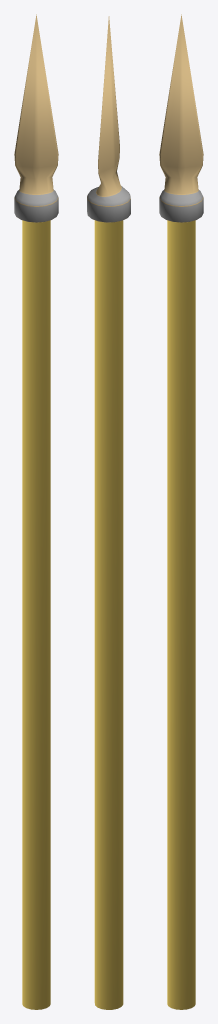
The model's file is Spear Model.fbx.
3 views of the same model, side by side, from view 1: azimuth 90°, elevation 25°; view 2: azimuth 150°, elevation 25°; view 3: azimuth 270°, elevation 25° (orthographic).
Visible parts, largest first — view 1: Cylinder; view 2: Cylinder; view 3: Cylinder.
Boxes of the visible parts, x1,y1,x2,y2 form: Cylinder: [14, 14, 58, 1009]; Cylinder: [87, 16, 130, 1009]; Cylinder: [159, 14, 203, 1009].
Bounding box in the file's own units: 200 × 4946 × 200.
